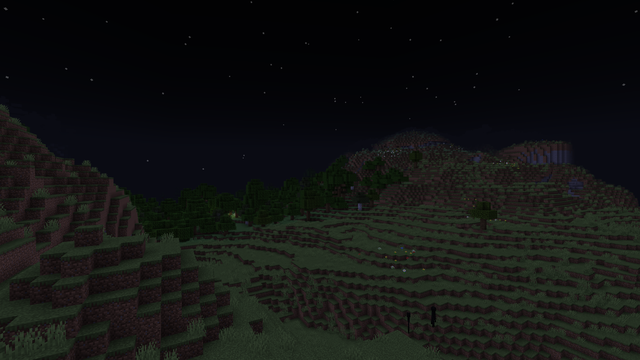endermens: (405, 311, 411, 333), (430, 305, 436, 327)
